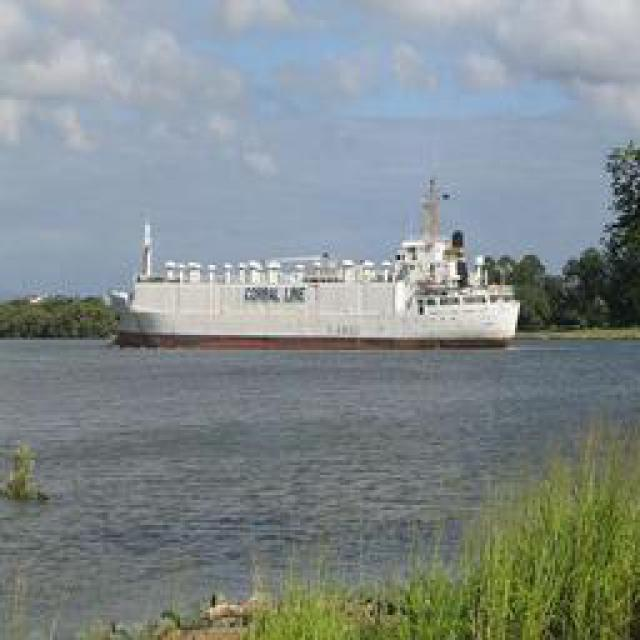Ship: (112, 173, 522, 351)
